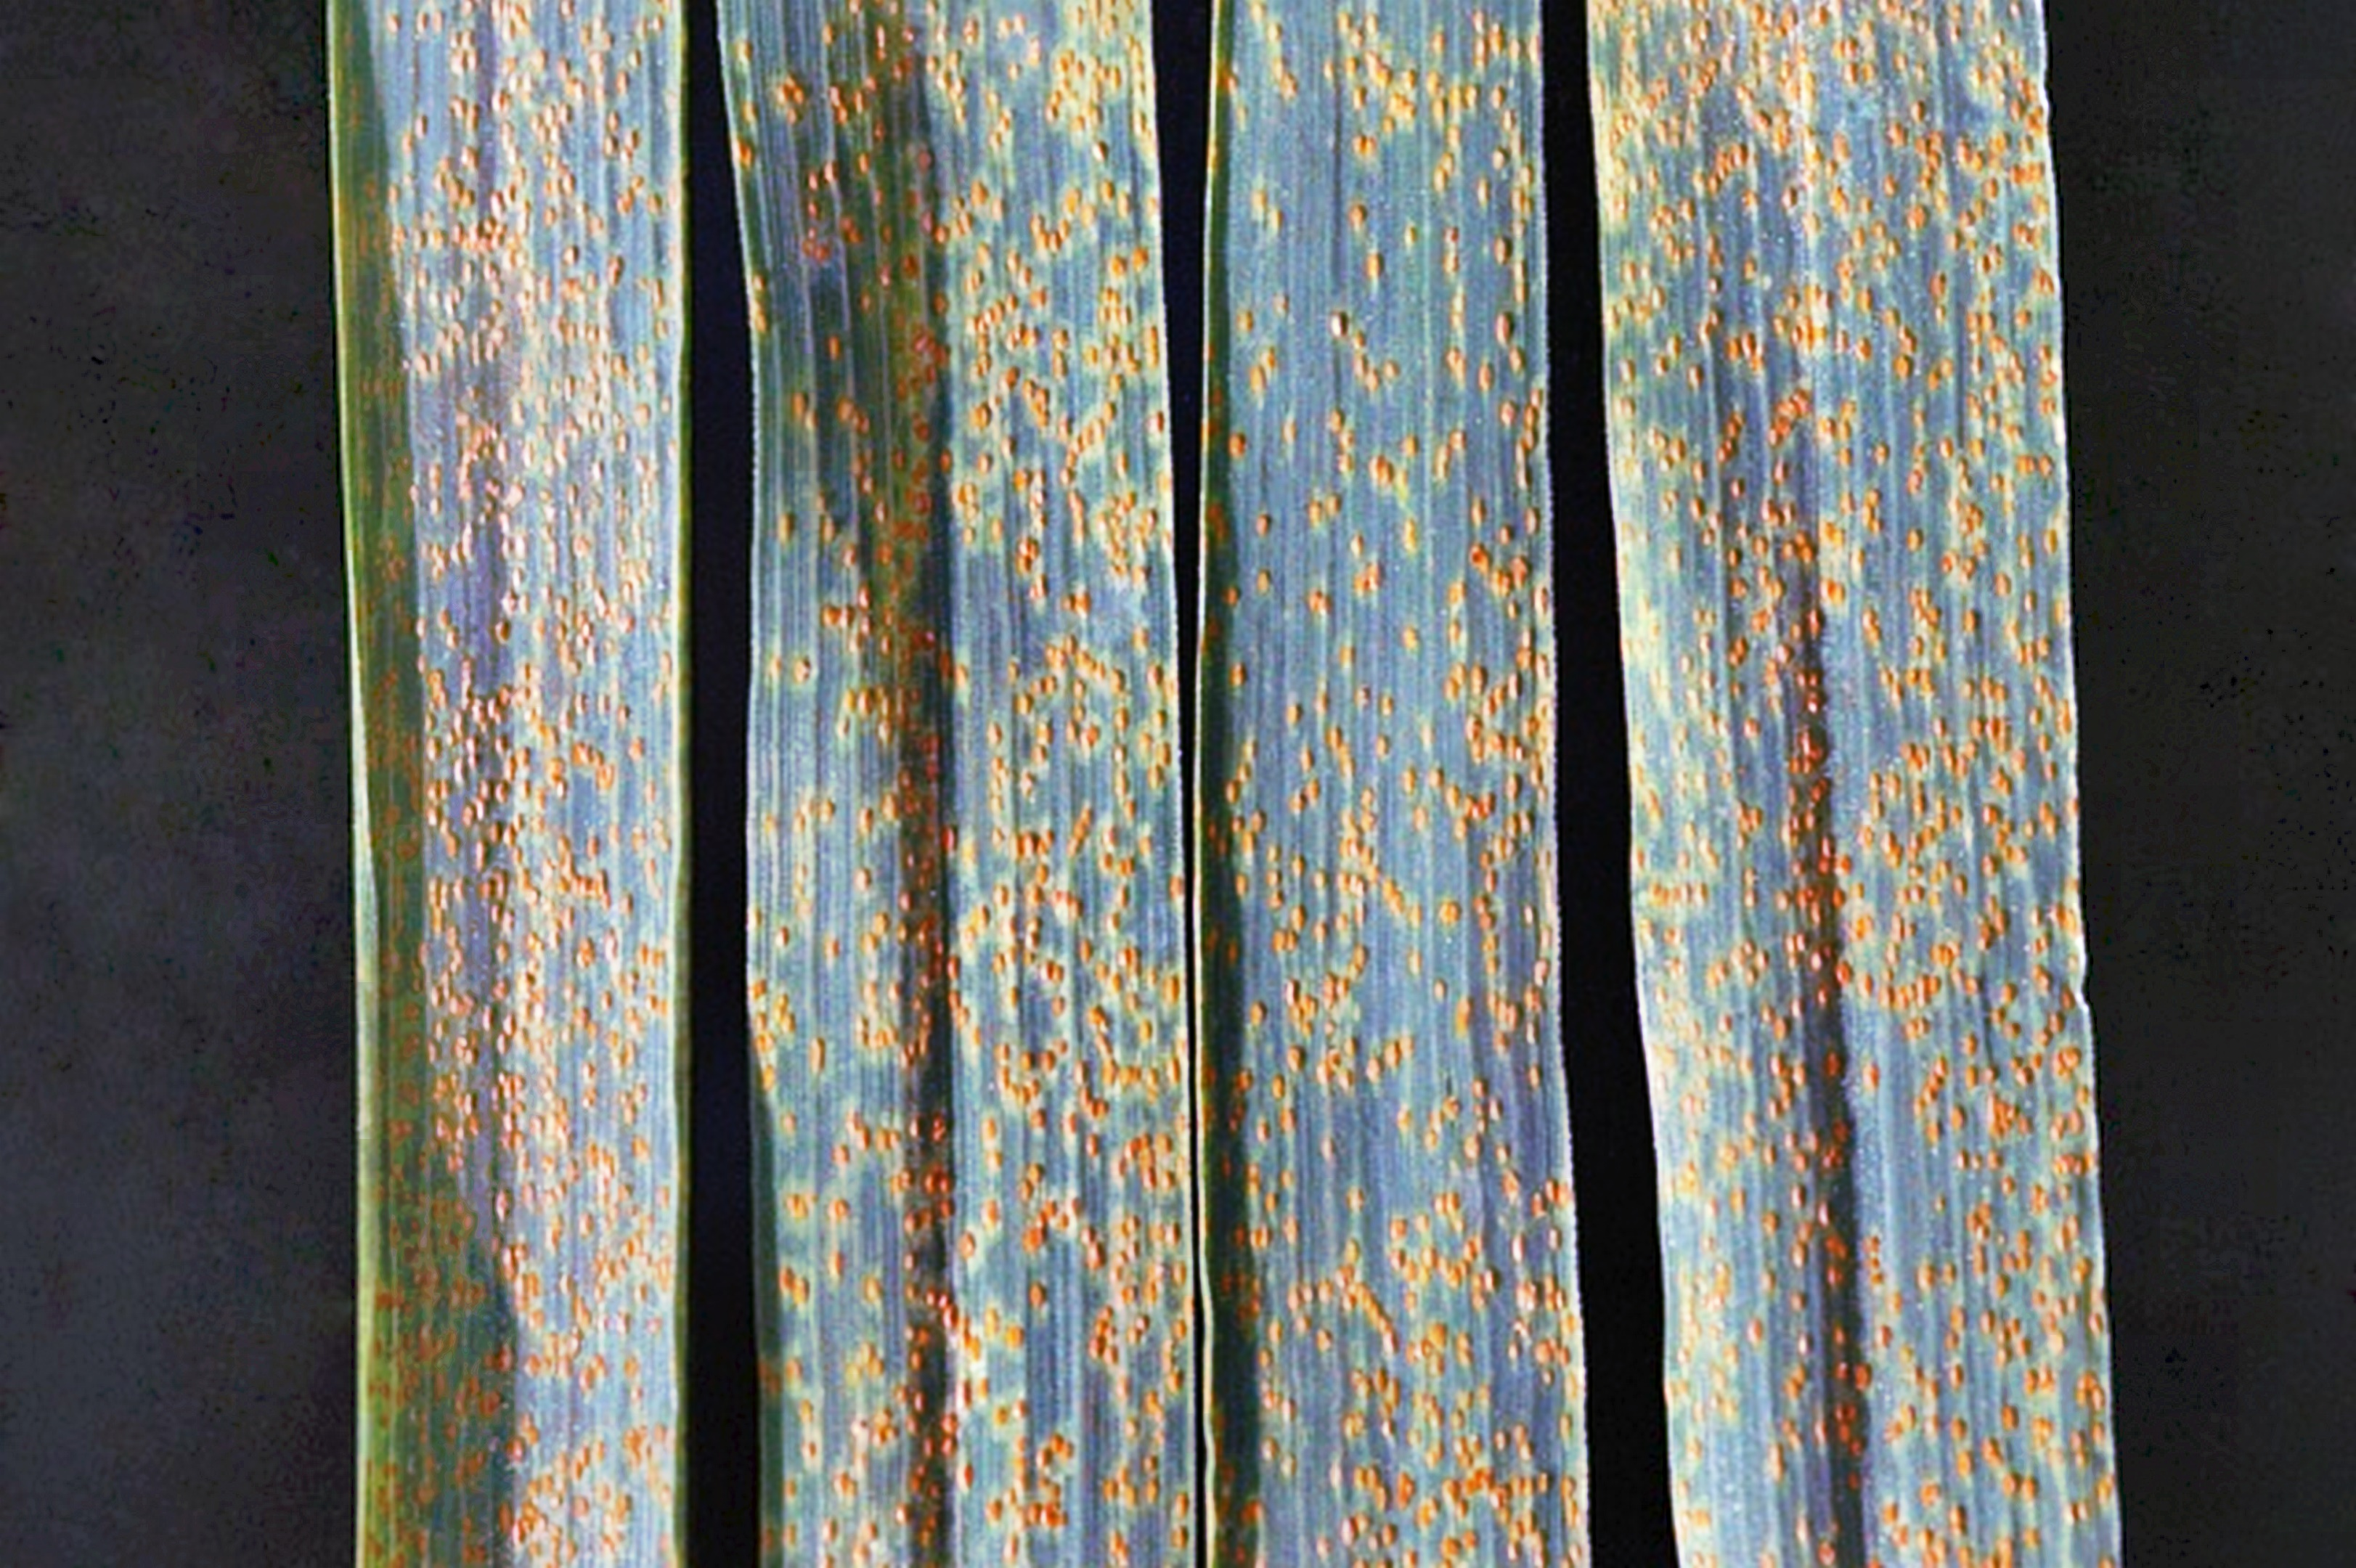Leaf Rust: (1619, 26, 2188, 1538), (712, 45, 1197, 1550), (1201, 73, 1612, 1536), (322, 19, 695, 1559)
